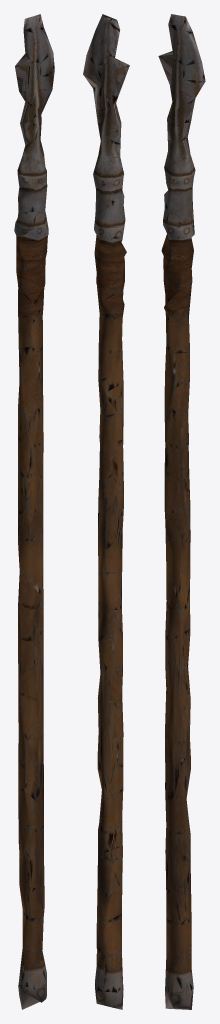
The model's file is speer_eisenholz.glb.
3 renders of one model, left to right at view 1: azimuth 30°, elevation 25°; view 2: azimuth 150°, elevation 25°; view 3: azimuth 330°, elevation 25°, orthographic.
Bounding box in the file's own units: 0.0989 × 2.16 × 0.0659.
1 material, 1 textured.
